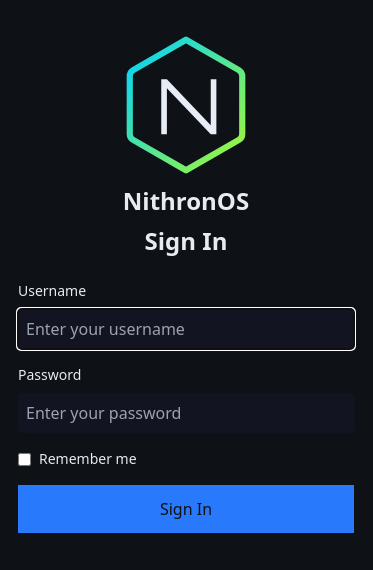
Test: Login Flow › should show validation errors for empty fields
Click the button "Sign In".
click(186, 509)  # box 18,485 -> 354,533
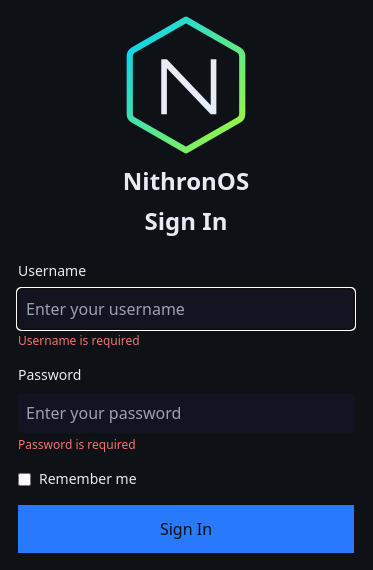
Check: the text "Username is required" is shown, box 18,332 -> 140,349
Check: the text "Password is required" is shown, box 18,436 -> 136,453
